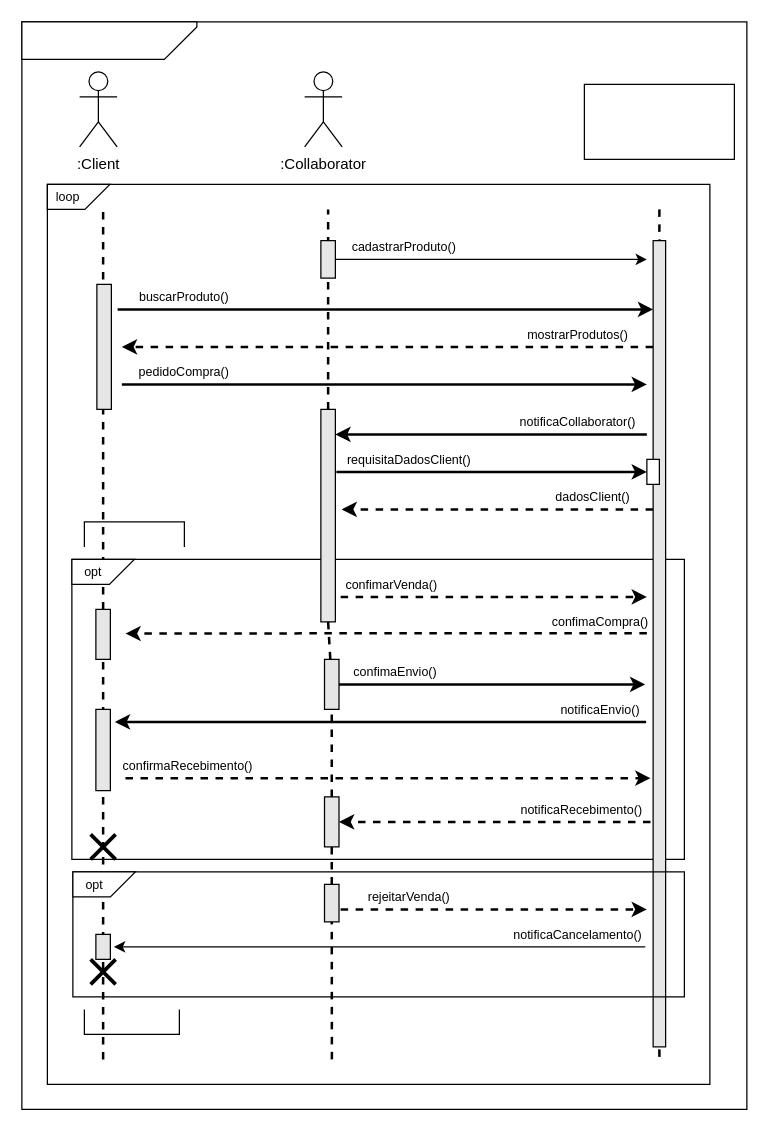
The diagram is 769 pixels wide and 1131 high, and some of its shapes have lost their labels. The shapes that lost their labels are listed below. From the top down, each one's box as (x1, y1, x2, y2) in pixels, then its label:
(21, 21, 197, 59): sd Venda de Produtos
(583, 83, 734, 159): <<plataform>> Jobz
